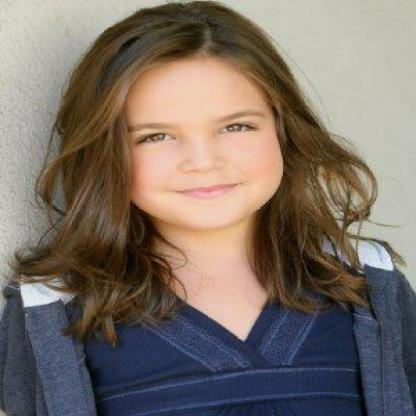long-hair: (12, 228, 380, 277)
